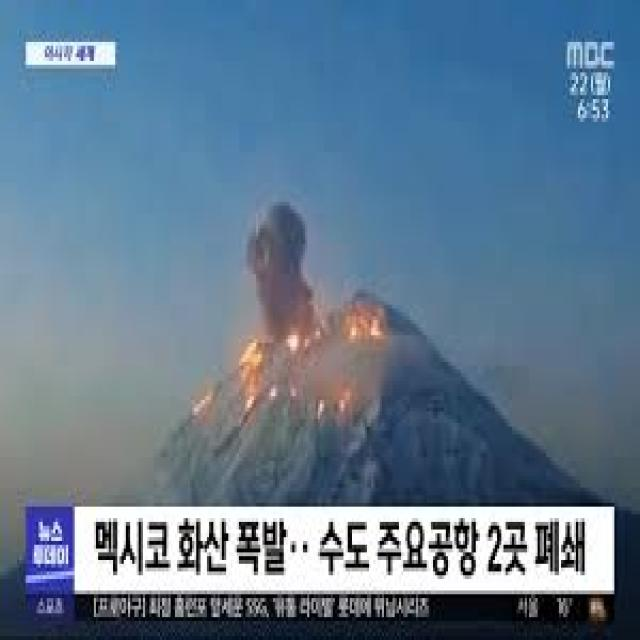explosion: (112, 170, 604, 508)
